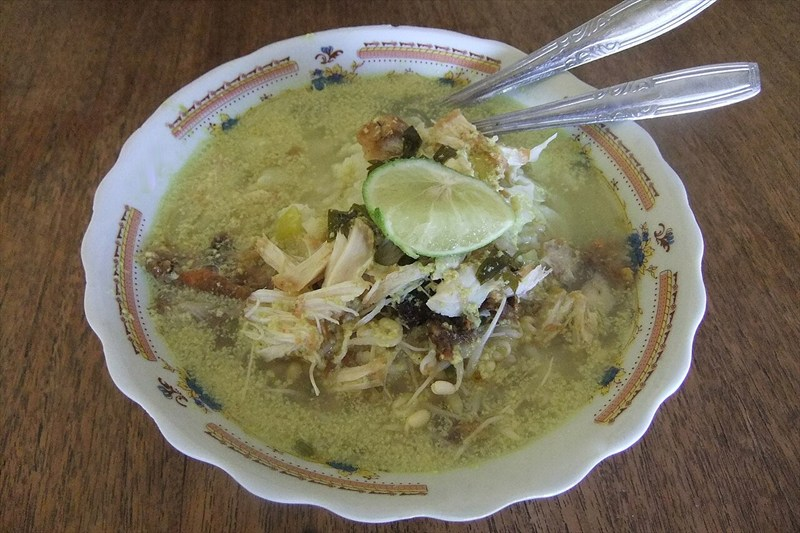Soto Ayam: (82, 12, 723, 494)
